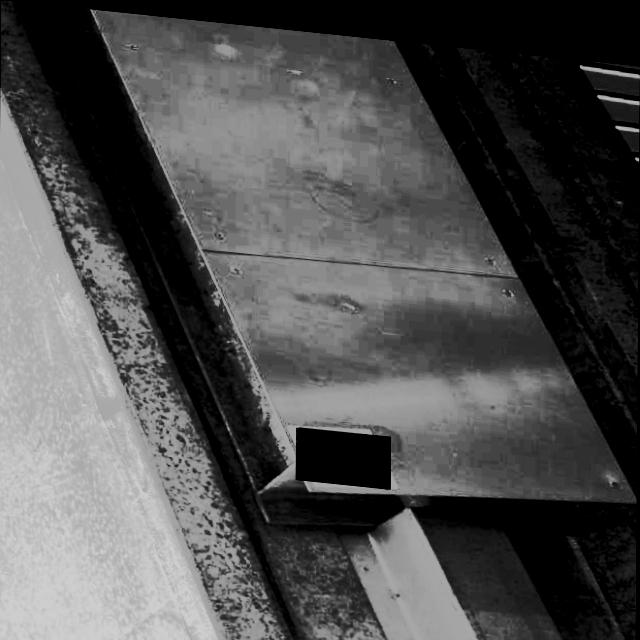qr_code: (296, 420, 390, 481)
